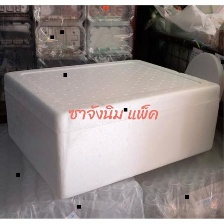foam_box: (0, 54, 224, 203)
